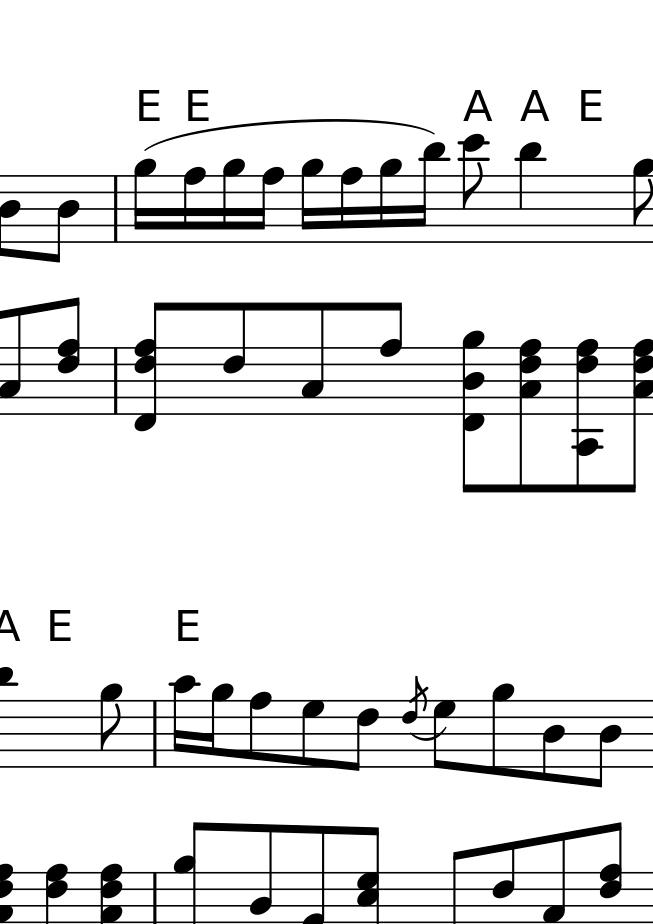16_10: (169, 673, 198, 769)
16_11: (410, 140, 448, 243)
16_8: (252, 164, 285, 245), (180, 166, 209, 246), (338, 166, 363, 246)
16_9: (218, 157, 246, 246), (132, 157, 158, 245), (299, 159, 325, 246), (377, 157, 402, 246)
4_11: (516, 142, 543, 243)
8_12: (458, 133, 488, 246)
8_3: (302, 301, 327, 417), (1, 307, 24, 420)
8_4: (46, 173, 82, 266), (588, 698, 624, 791), (541, 697, 566, 784)
8_6: (221, 300, 248, 417), (347, 698, 380, 775)
8_6_8: (57, 296, 81, 415)
8_7: (298, 699, 325, 769), (432, 697, 456, 771)
8_8: (376, 300, 404, 417), (248, 690, 274, 769)
8_9: (202, 683, 232, 770), (97, 683, 126, 771), (489, 683, 515, 777), (629, 157, 653, 245)
8_th: (133, 299, 176, 433), (618, 335, 653, 493), (573, 337, 607, 496), (460, 328, 488, 495), (516, 335, 543, 497)
Acciaccature: (403, 673, 427, 769)
Single_barline: (107, 175, 124, 241), (107, 345, 123, 414), (147, 700, 162, 766)
Slur: (144, 115, 437, 151), (411, 728, 448, 742)
